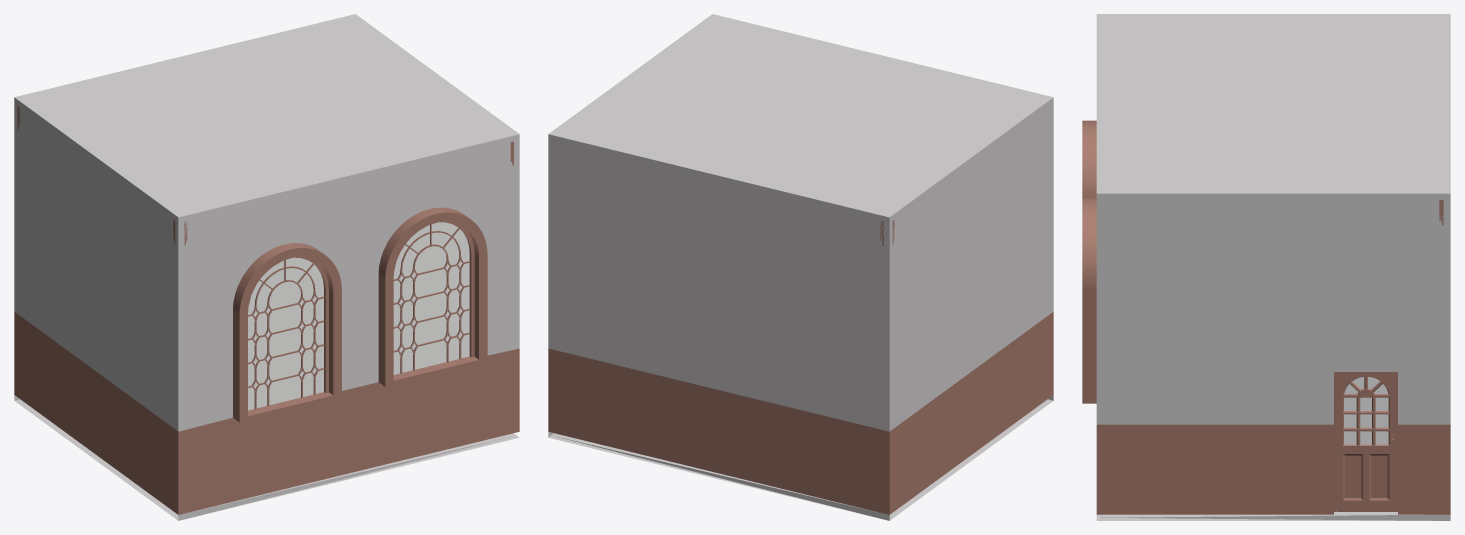
The model's file is room.fbx.
3 renders of one model, left to right at view 1: azimuth 30°, elevation 25°; view 2: azimuth 150°, elevation 25°; view 3: azimuth 270°, elevation 25°, orthographic. The views are drawn at different scales.
Parts seen in each view (by area): view 1: wall3, top, wall4, bottom, wall2, wall1; view 2: wall1, top, wall4, bottom, wall2; view 3: wall2, top, door1, wall3, bottom, wall1.
Boxes of the visible parts, x1,y1,x2,y2 form: wall3: [173, 142, 519, 514]; top: [14, 14, 519, 223]; wall4: [17, 107, 187, 514]; bottom: [14, 395, 519, 520]; wall2: [510, 140, 519, 433]; wall1: [14, 103, 19, 397]; wall1: [548, 140, 894, 514]; top: [548, 14, 1053, 223]; wall4: [880, 104, 1053, 514]; bottom: [548, 395, 1053, 520]; wall2: [548, 160, 556, 433]; wall2: [1096, 200, 1450, 514]; top: [1096, 14, 1450, 199]; door1: [1336, 372, 1395, 511]; wall3: [1082, 120, 1105, 490]; bottom: [1096, 511, 1450, 520]; wall1: [1439, 200, 1450, 424].
Bounding box in the file's own units: 601 × 510 × 520.
